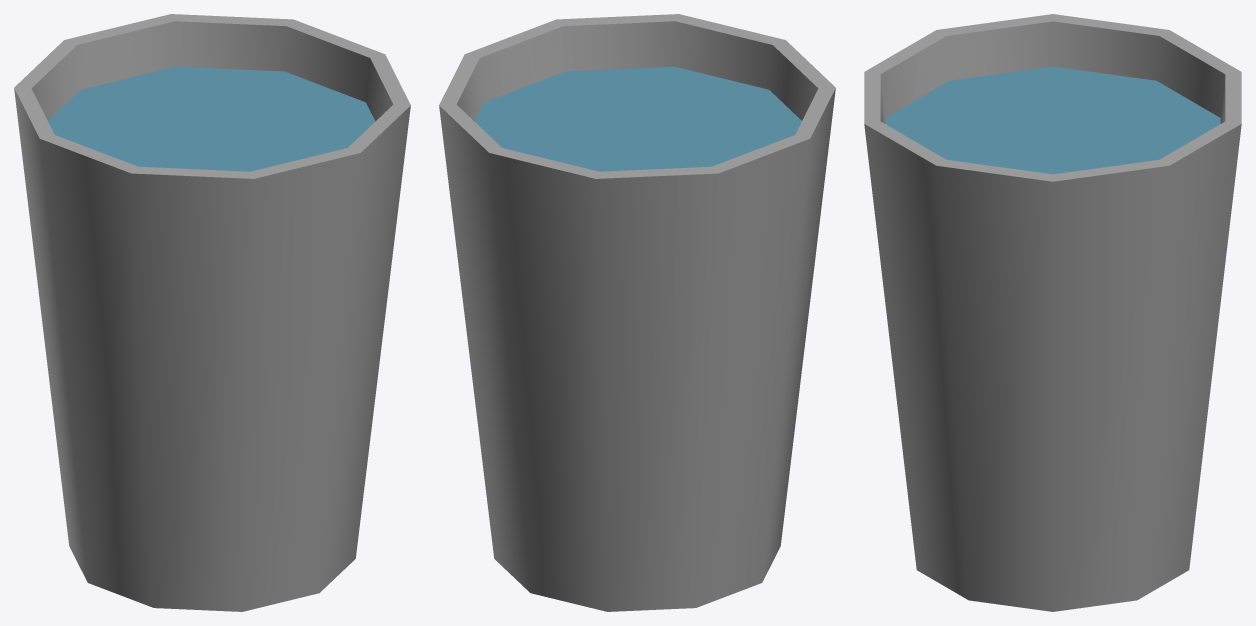
The model's file is glass.fbx.
The picture shows the model from 3 angles, left to right: view 1: azimuth 30°, elevation 25°; view 2: azimuth 150°, elevation 25°; view 3: azimuth 270°, elevation 25°; orthographic projection.
Parts seen in each view (by area): view 1: polySurface23, polySurface24; view 2: polySurface23, polySurface24; view 3: polySurface23, polySurface24.
Boxes of the visible parts, bbox=[...] form: polySurface23: bbox=[14, 14, 410, 611]; polySurface24: bbox=[48, 66, 375, 171]; polySurface23: bbox=[439, 14, 835, 611]; polySurface24: bbox=[474, 66, 801, 171]; polySurface23: bbox=[864, 14, 1241, 611]; polySurface24: bbox=[885, 66, 1220, 174].
Bounding box in the file's own units: 8.3 × 10.47 × 7.9.
